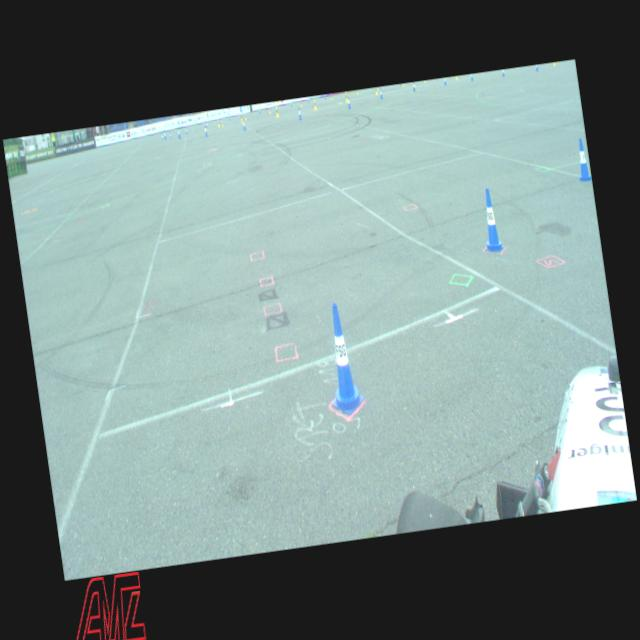blue_cone: (319, 301, 366, 416), (478, 188, 504, 254), (575, 138, 592, 182), (298, 107, 302, 120), (347, 96, 351, 109), (379, 88, 383, 100), (242, 118, 246, 130), (443, 78, 447, 86), (205, 126, 208, 136), (471, 74, 474, 81), (178, 128, 180, 138), (164, 130, 166, 139), (161, 132, 163, 140), (290, 100, 292, 108), (536, 64, 538, 72), (258, 107, 260, 114), (186, 128, 188, 134), (170, 132, 172, 138), (308, 98, 310, 104), (324, 94, 326, 100)
yellow_cone: (314, 98, 318, 110), (344, 92, 348, 102), (374, 87, 378, 95), (240, 112, 243, 122), (217, 119, 220, 127), (276, 106, 278, 118), (244, 114, 247, 120), (269, 107, 271, 114), (222, 120, 224, 126), (300, 100, 302, 106), (330, 94, 332, 100)
